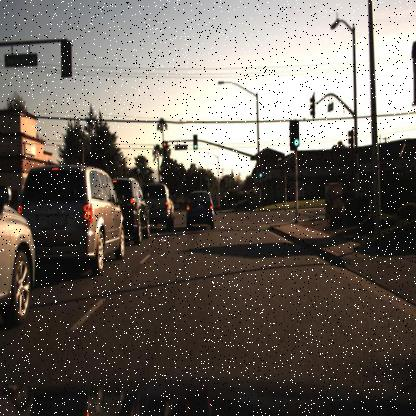car: (36, 153, 125, 286), (122, 172, 152, 247), (148, 172, 178, 232), (184, 187, 217, 234)
trafficLight-Green: (288, 118, 301, 151), (290, 121, 302, 150), (190, 129, 198, 153), (256, 162, 264, 182)
trafficLight-RedLeft: (159, 135, 167, 156)
